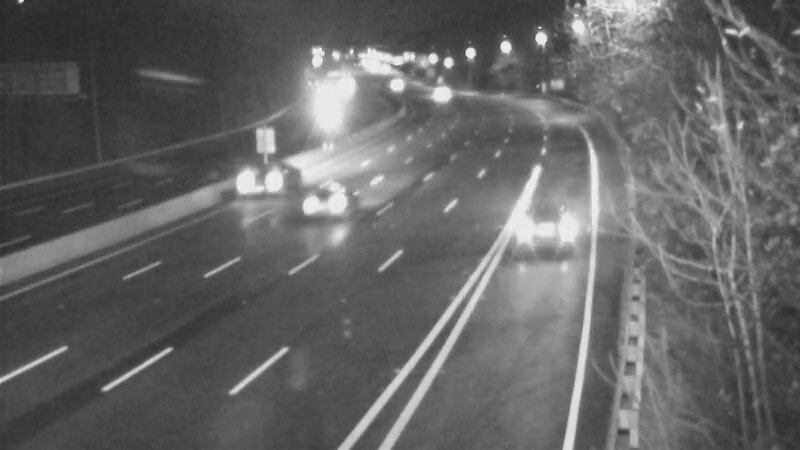vehicle: (495, 188, 575, 268), (284, 165, 364, 245), (234, 132, 314, 212), (369, 58, 419, 108), (414, 70, 464, 120), (307, 74, 357, 124)
